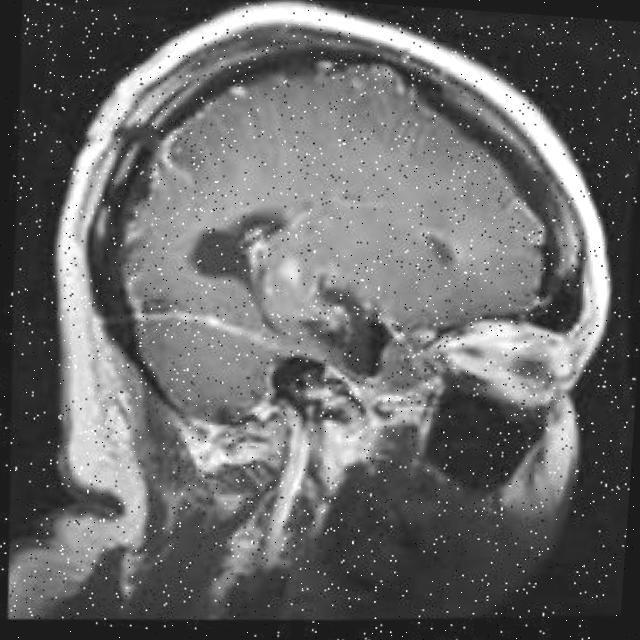MCI: (394, 226, 476, 295)
